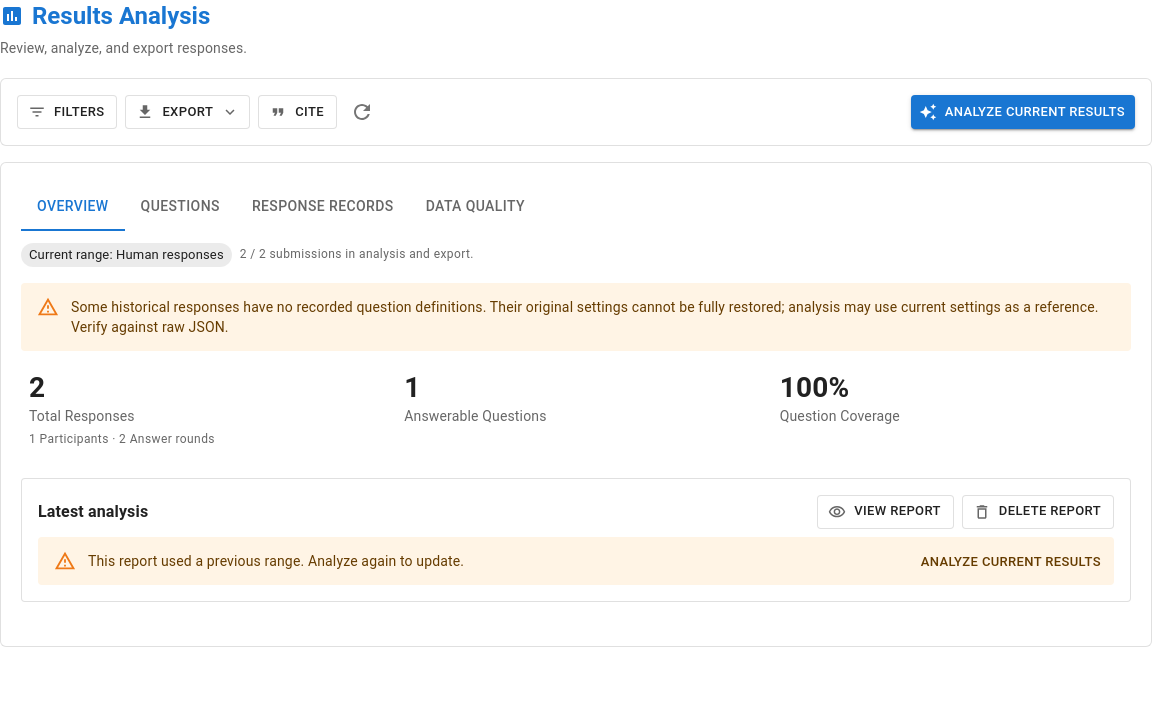
saved report Complete report can be opened and deleted without deleting responses
Expected: the text "2 / 2 submissions in analysis and export." is shown, left=240, top=245, right=474, bottom=265
What coordinates should you click on to do the following:
click the button "View report"
I would click on:
 (886, 512)
Its box is left=817, top=495, right=954, bottom=529.
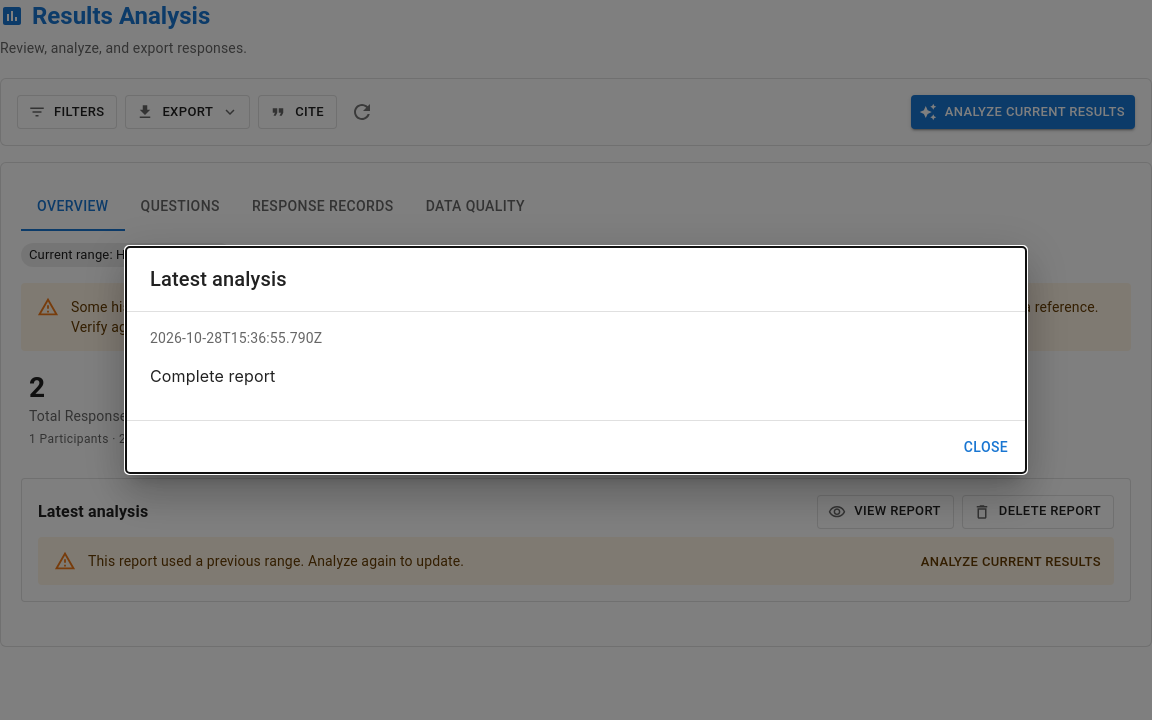
Expected: the text "Complete report" is shown, left=150, top=366, right=276, bottom=386
What coordinates should you click on to do the following:
click the button "Close"
I would click on:
 (986, 447)
Its box is left=954, top=429, right=1018, bottom=465.
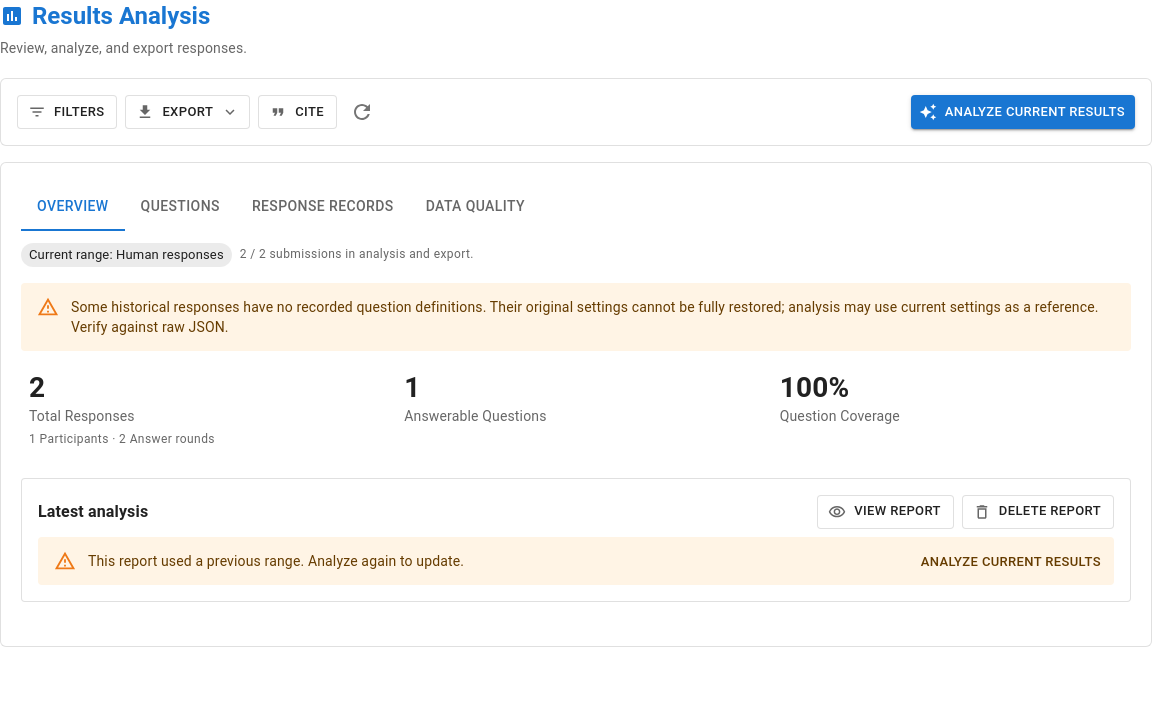
Expected: the dialog is gone
What coordinates should you click on to do the following:
click the button "Delete report"
I would click on:
 (1038, 512)
Its box is left=962, top=495, right=1114, bottom=529.
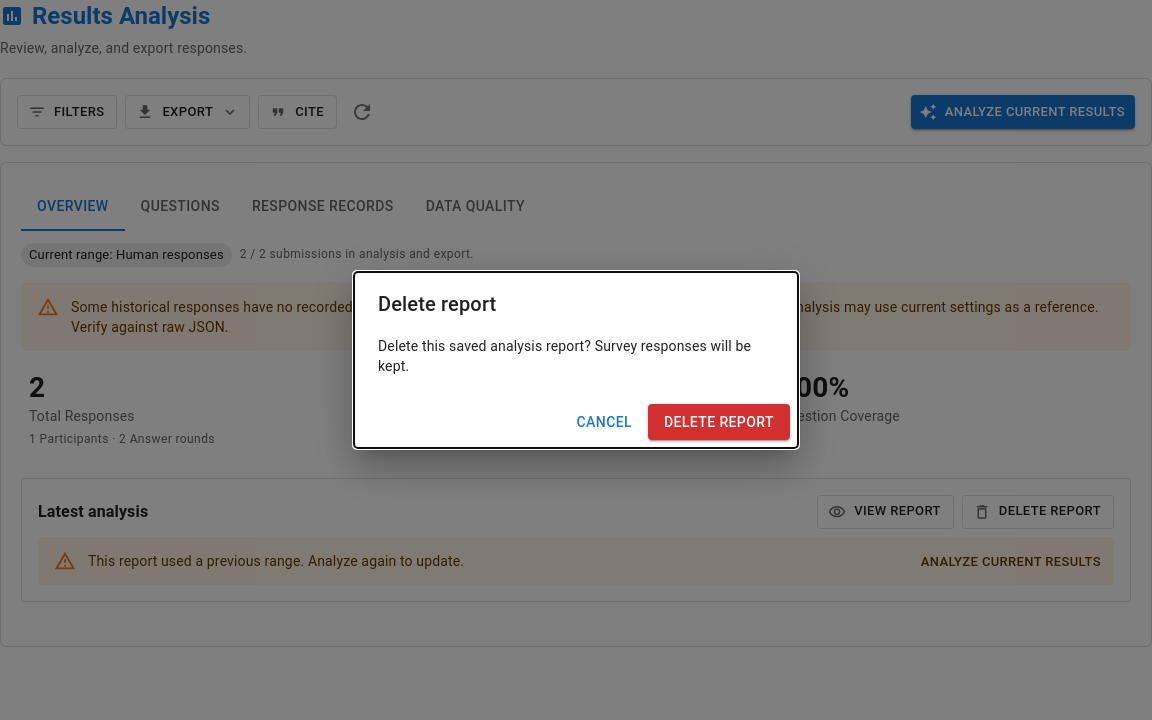
What coordinates should you click on to do the following:
click the button "Delete report"
I would click on:
 (719, 422)
Its box is left=648, top=404, right=790, bottom=440.
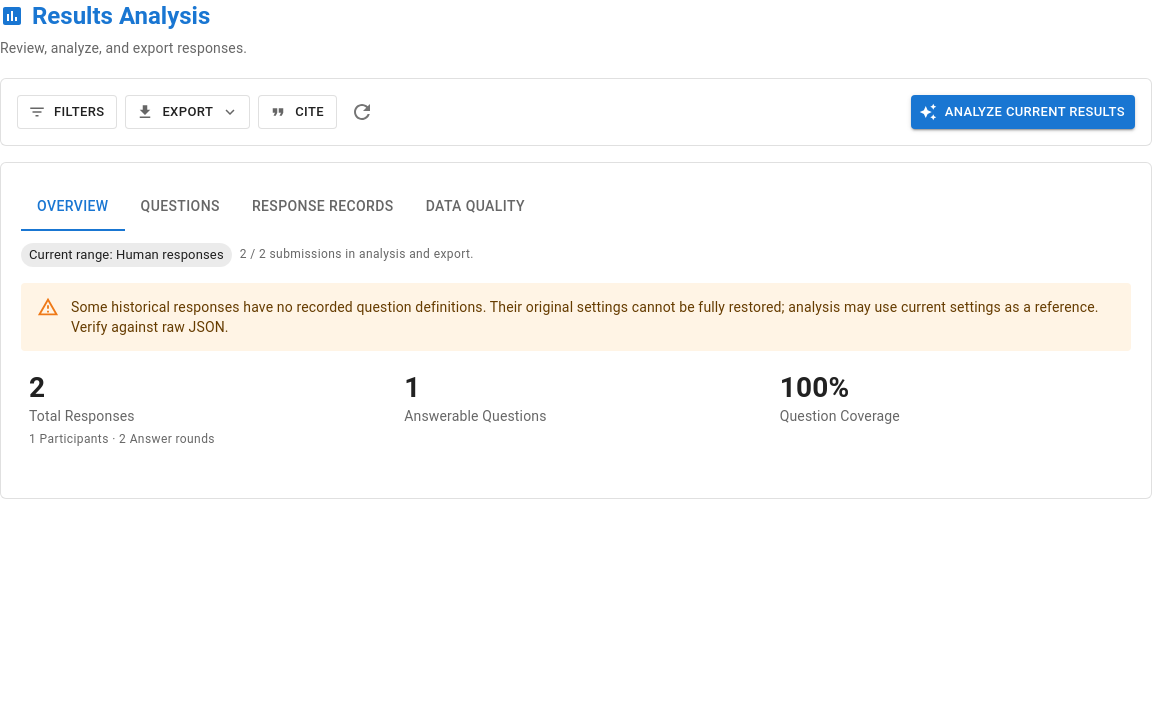
Expected: the button "View report" is gone
What coordinates should you click on to do the following:
click the tab "Response records"
I would click on:
 (323, 207)
Its box is left=236, top=183, right=410, bottom=231.
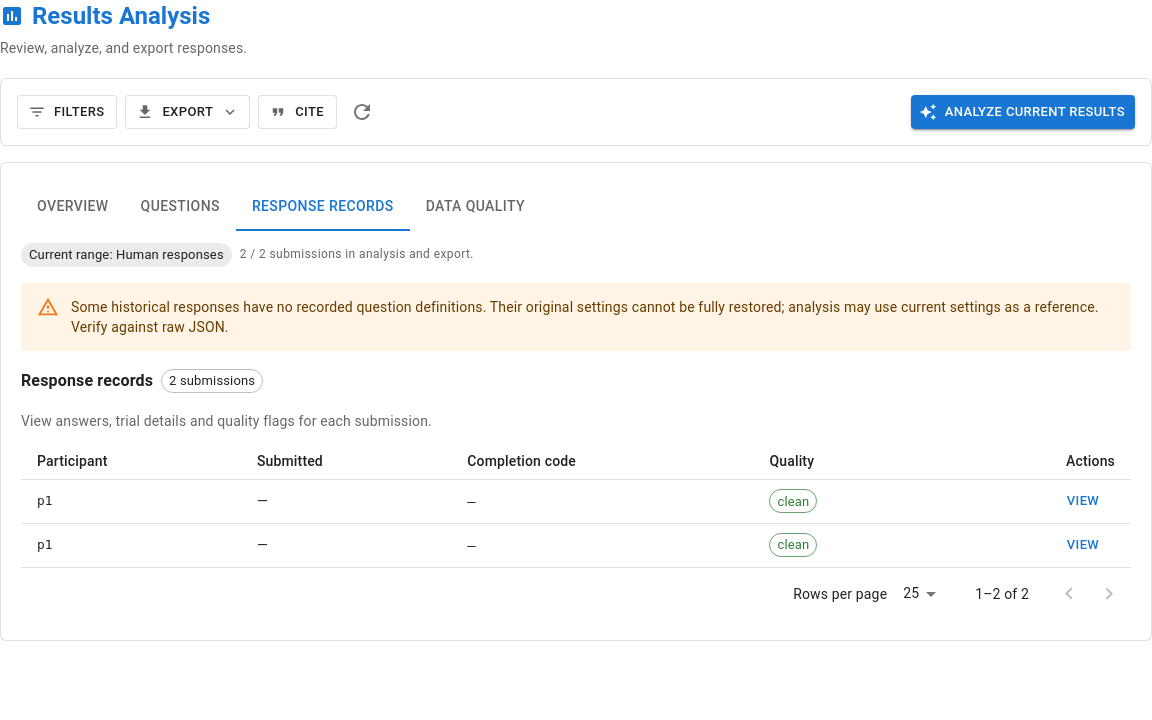
Expected: the number of buttons "View" is 2, left=1051, top=486, right=1115, bottom=517; left=1051, top=530, right=1115, bottom=561
